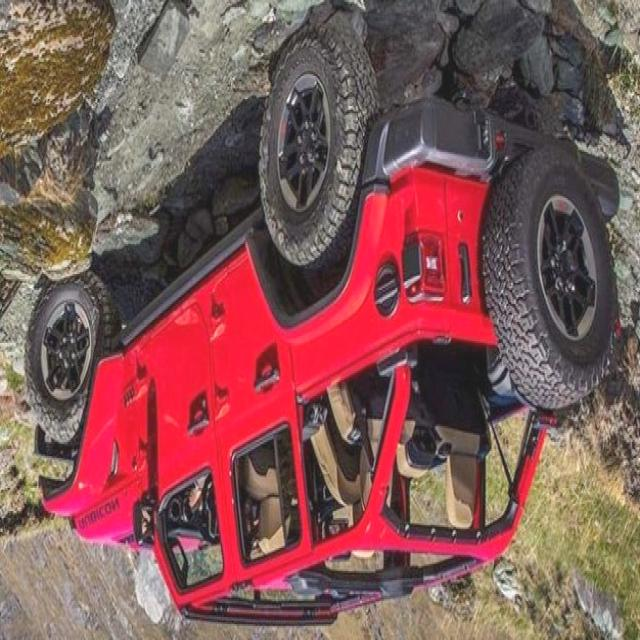red: (38, 82, 640, 630)
